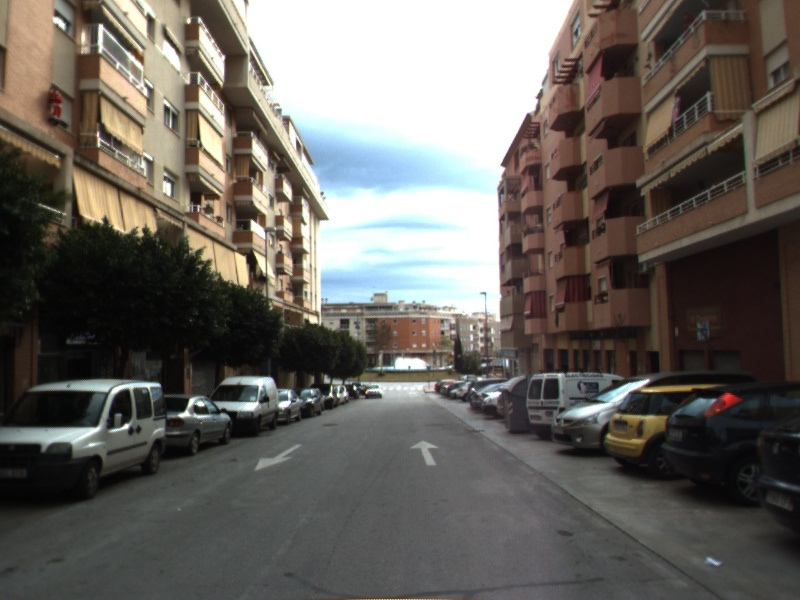STRAIGHT: (408, 438, 441, 467)
